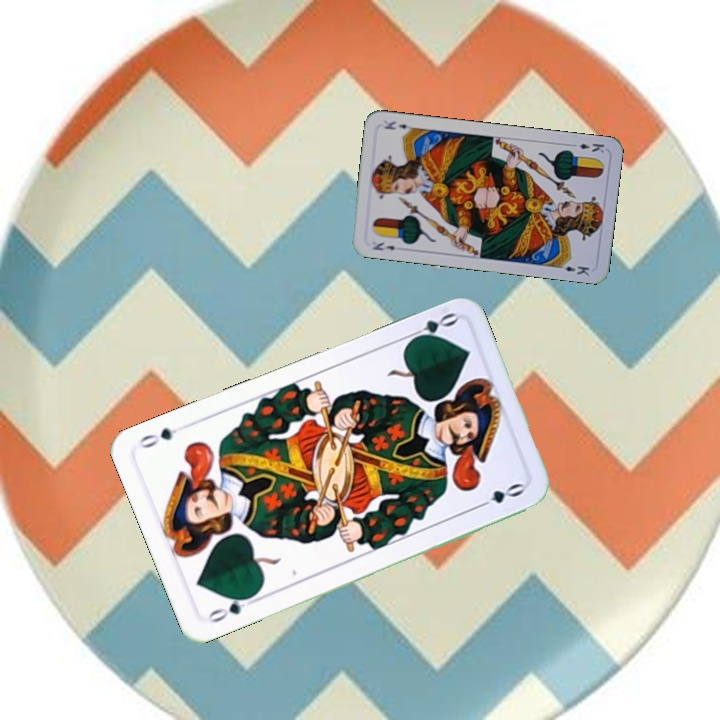EK: (566, 139, 607, 156), (369, 238, 397, 253)
GO: (402, 308, 460, 346), (204, 590, 260, 626)
